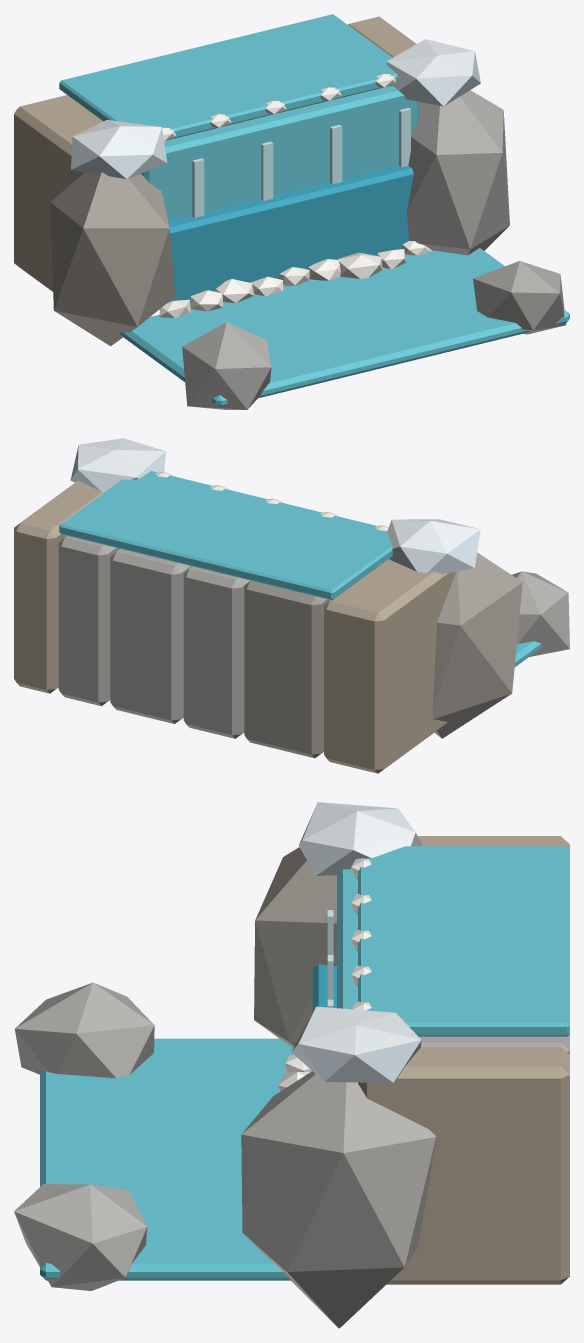
Rendered from waterfall_step.glb.
The picture shows the model from 3 angles, top to bottom: view 1: azimuth 30°, elevation 25°; view 2: azimuth 150°, elevation 25°; view 3: azimuth 270°, elevation 25°; orthographic projection. The views are drawn at different scales.
Parts seen in each view (by area): view 1: waterfall_step; view 2: waterfall_step; view 3: waterfall_step.
Part boxes in pixels (bbox=[...]): waterfall_step: bbox=[14, 14, 569, 409]; waterfall_step: bbox=[14, 438, 569, 773]; waterfall_step: bbox=[14, 802, 569, 1328].
Bounding box in the file's own units: 2.3 × 1.1 × 1.84.
